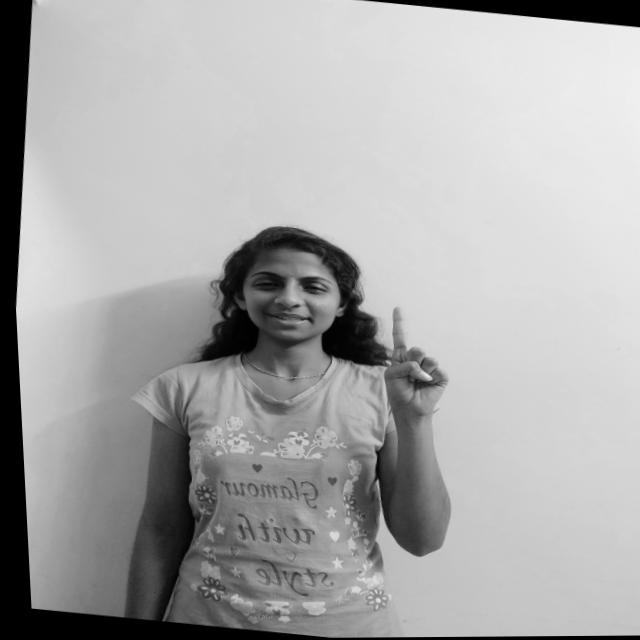Question: (359, 301, 464, 449)
